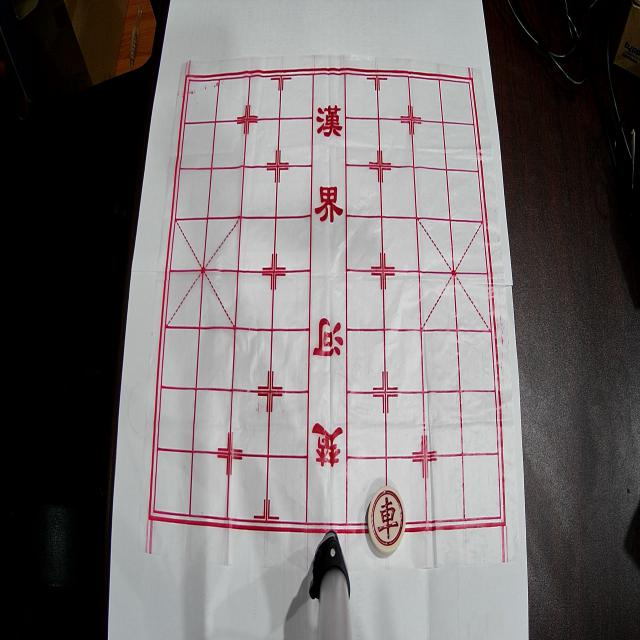red-chariot: (368, 486, 406, 555)
